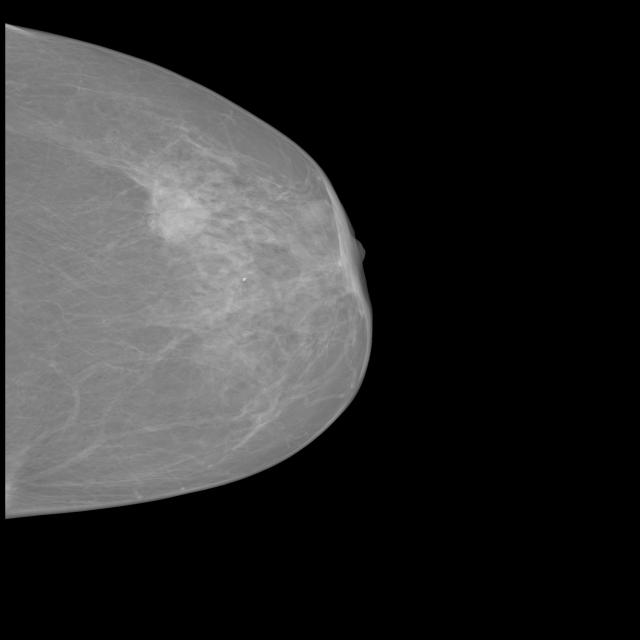Mass_1: (116, 161, 241, 262)
